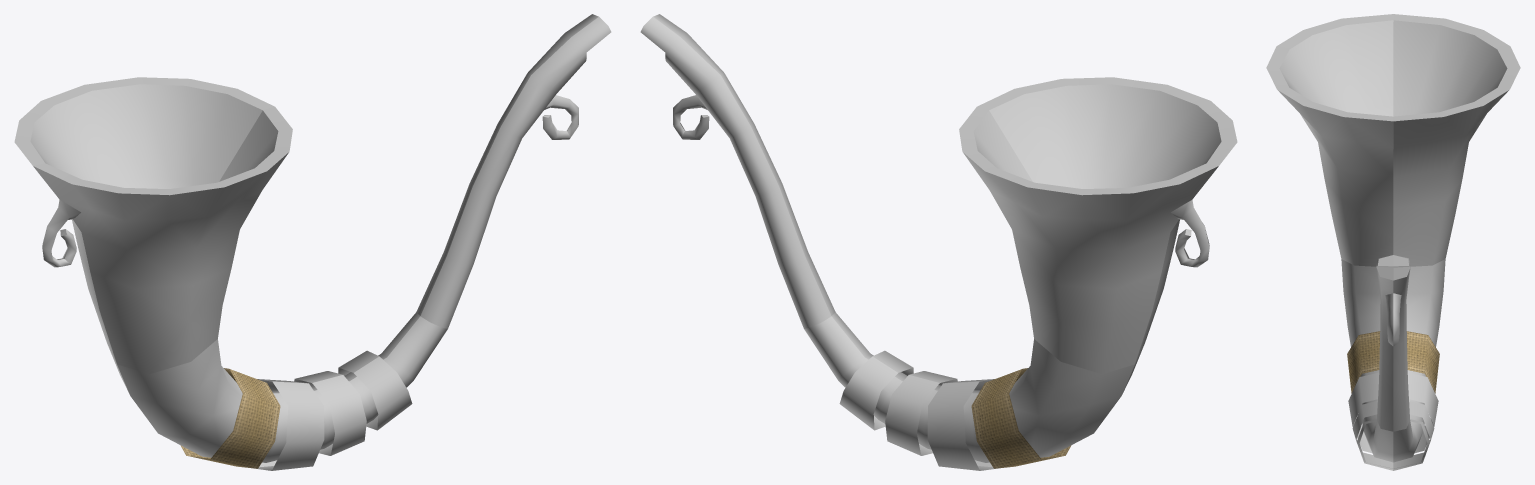
Rendered from horn.fbx.
3 views of the same model, side by side, from view 1: azimuth 30°, elevation 25°; view 2: azimuth 150°, elevation 25°; view 3: azimuth 270°, elevation 25° (orthographic). The views are drawn at different scales.
Parts seen in each view (by area): view 1: Cube_018; view 2: Cube_018; view 3: Cube_018.
Boxes of the visible parts, box(x1,y1,x2,y2) form: Cube_018: box(14, 14, 611, 470); Cube_018: box(640, 14, 1237, 470); Cube_018: box(1266, 14, 1520, 470).
Bounding box in the file's own units: 0.4648 × 0.2904 × 0.1977.
